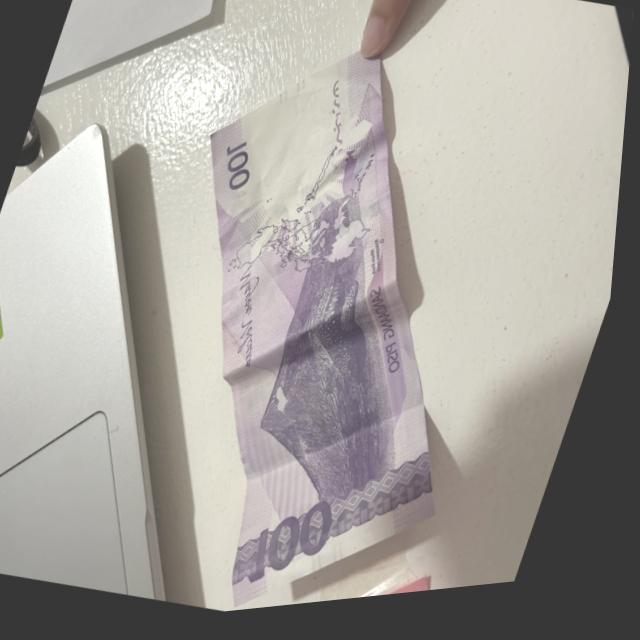100_whale: (295, 249, 413, 403)
100_whale_watermark: (336, 150, 376, 209)
value_watermark: (289, 92, 322, 130)
